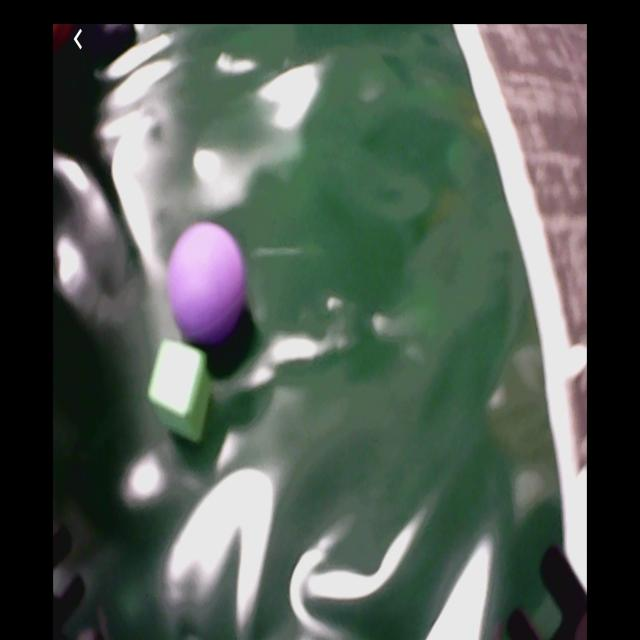ball: (168, 226, 248, 343)
